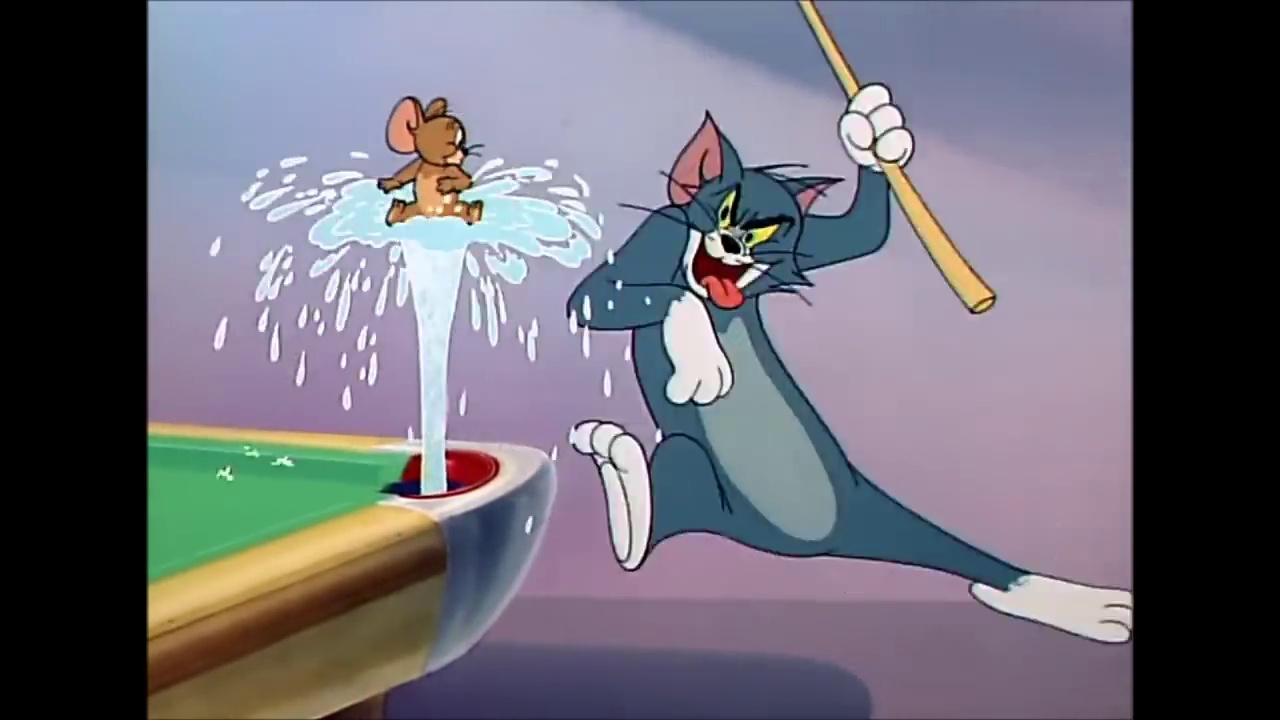surprised: (442, 118, 468, 166)
